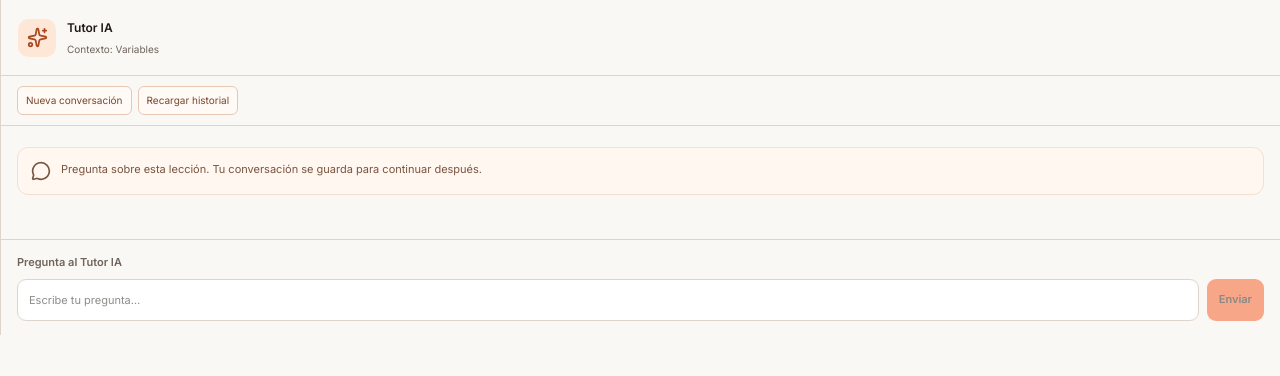
Test case: Conversación del tutor › conserva la pregunta cuando el servidor rechaza la consulta
Type "¿Qué es bool?" into the field labelled "Pregunta al Tutor IA" at {"x": 608, "y": 300}, box [17, 278, 1199, 320]
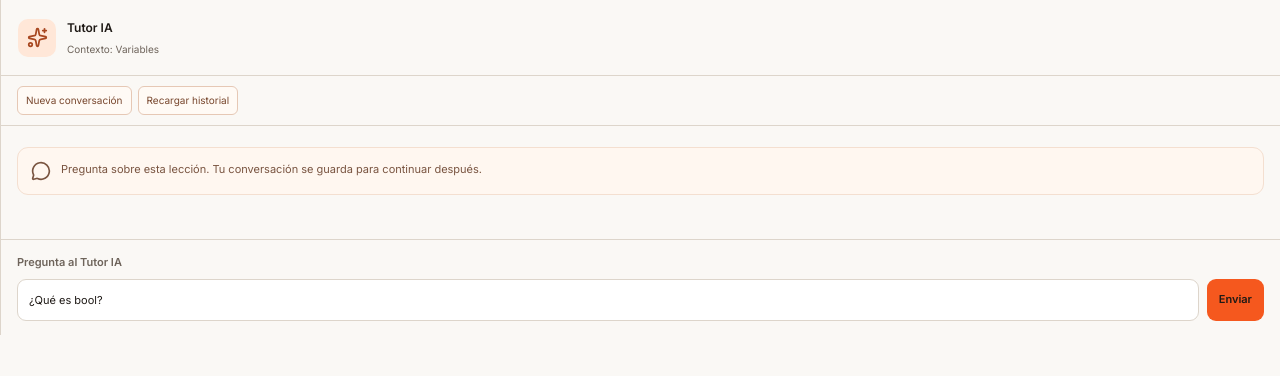
Click the button "Enviar" at {"x": 1235, "y": 300}, box [1207, 278, 1264, 320]
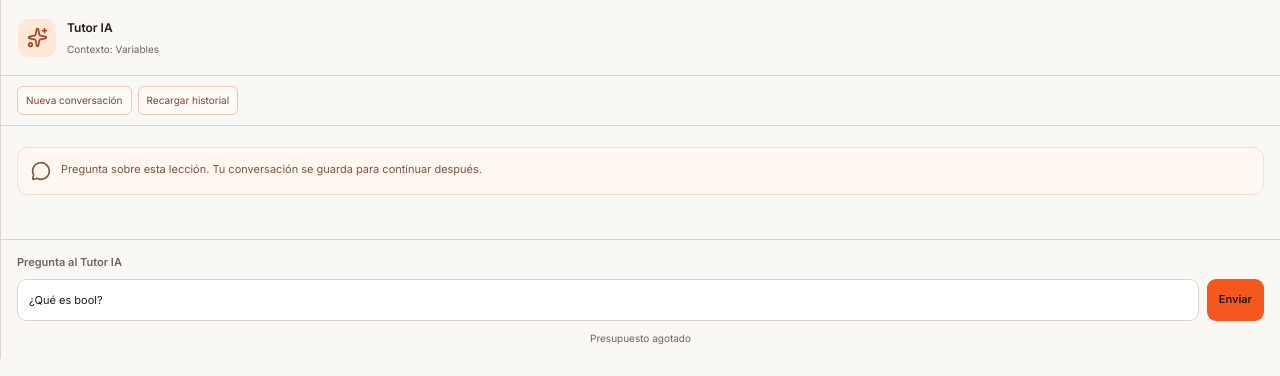
Expected: the message reads "Presupuesto agotado", [590, 332, 691, 344]
